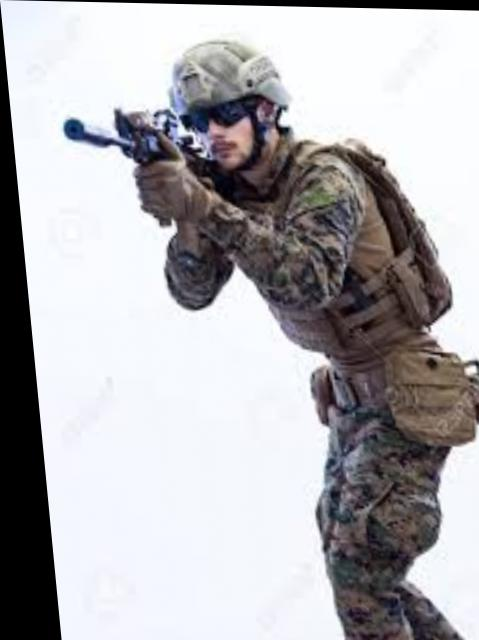other: (159, 30, 478, 616)
